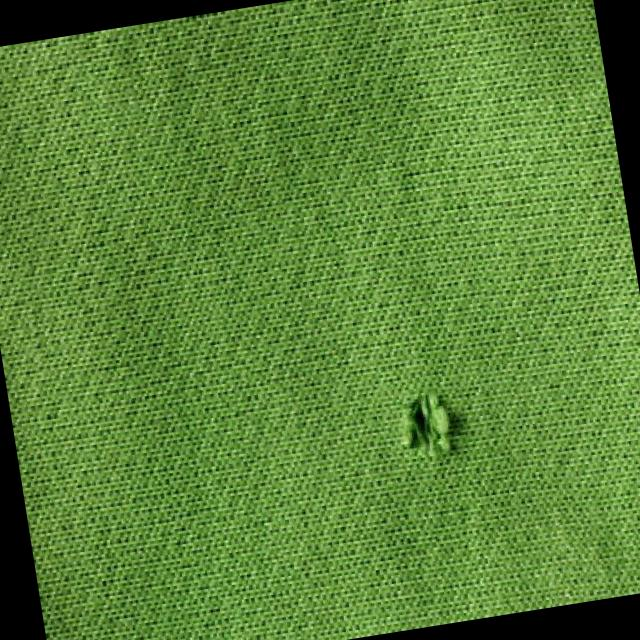hole: (394, 381, 472, 461)
